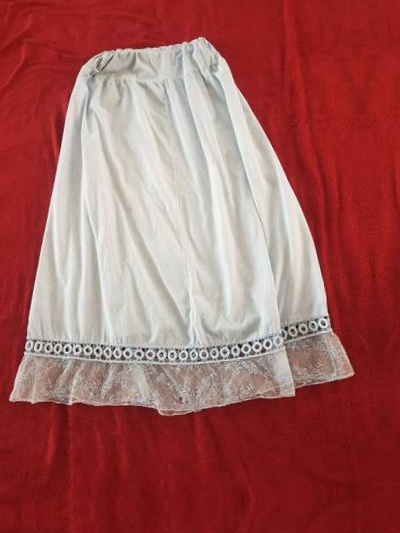Dress: (0, 21, 368, 464), (373, 0, 400, 436)
